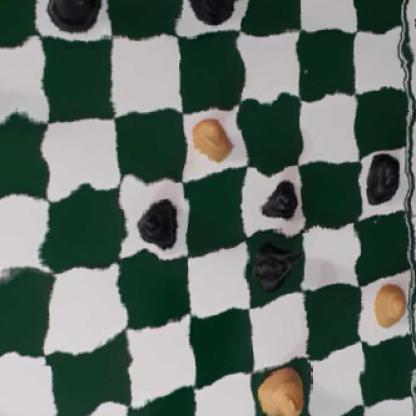black-king: (179, 0, 236, 31)
black-knight: (254, 232, 303, 296)
black-pawn: (129, 191, 181, 258), (258, 172, 302, 225), (365, 150, 401, 209)
black-rook: (41, 0, 109, 29)
white-king: (256, 360, 306, 416)
white-pawn: (187, 116, 236, 169), (367, 279, 411, 332)
